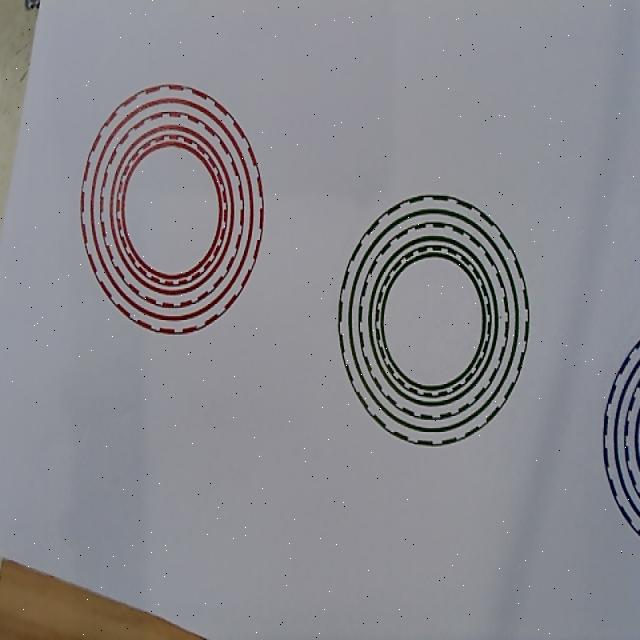g: (338, 193, 529, 446)
red-green-blue: (80, 83, 264, 335)
